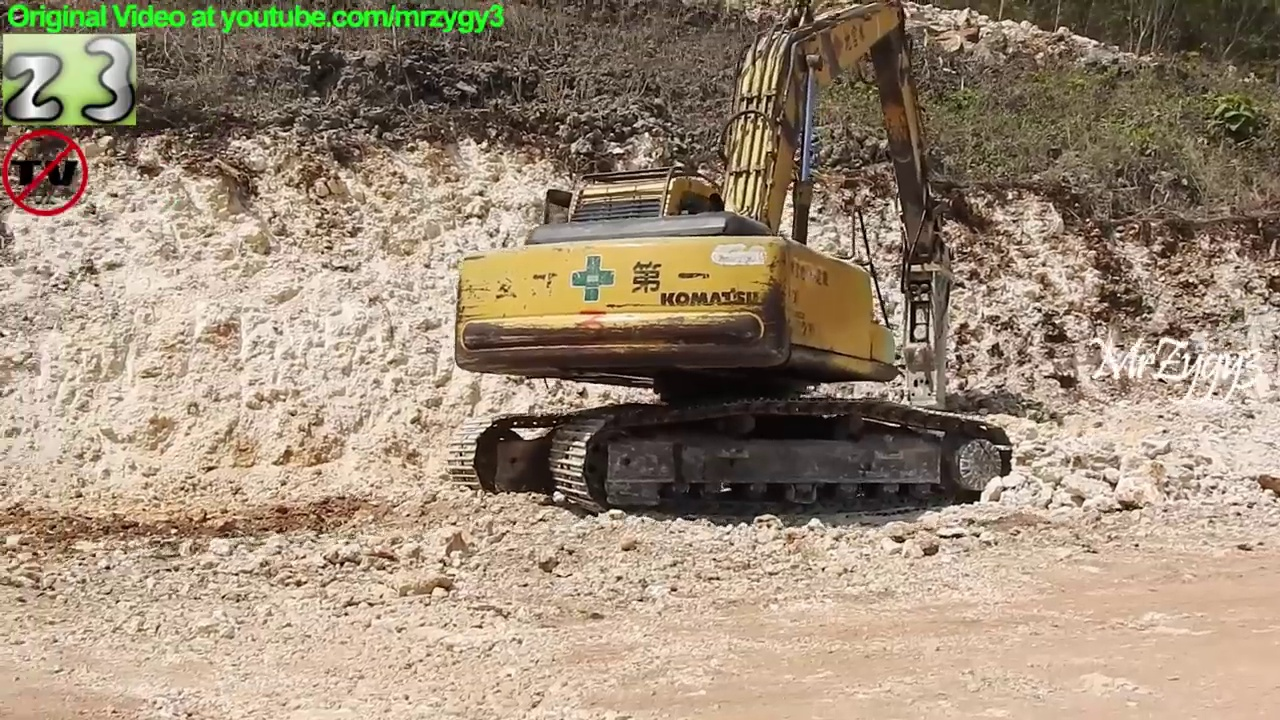excavator breaker: (442, 1, 1030, 531)
